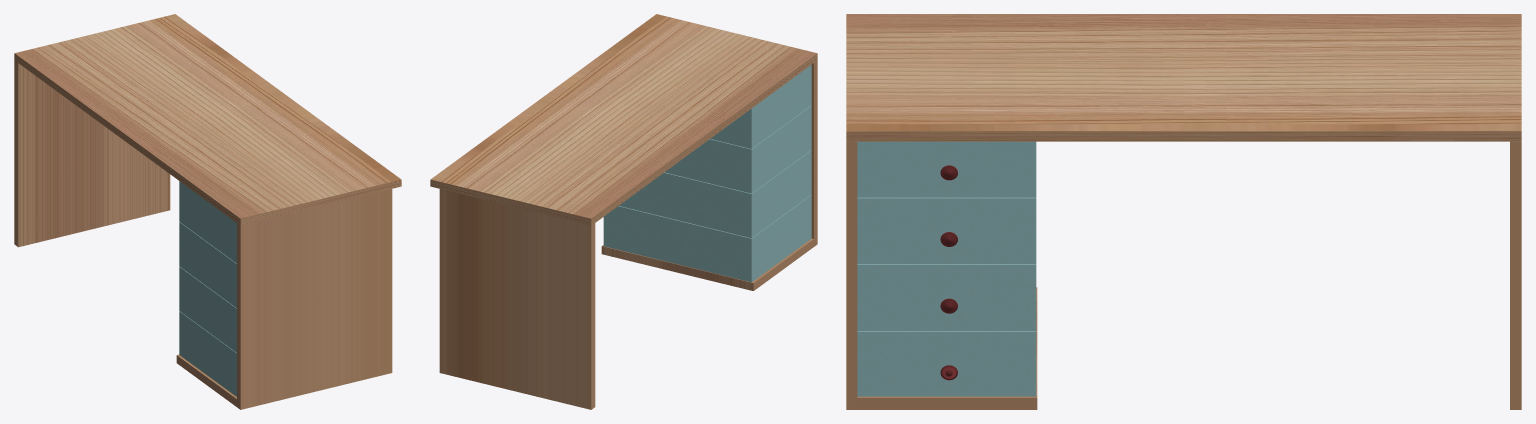
Rendered from desk.glb.
3 views of the same model, side by side, from view 1: azimuth 30°, elevation 25°; view 2: azimuth 150°, elevation 25°; view 3: azimuth 270°, elevation 25° (orthographic). The views are drawn at different scales.
Visible parts, largest first — view 1: Cube.010, Cube.011; view 2: Cube.010, Cube.011; view 3: Cube.010, Cube.011.
Boxes of the visible parts, <box> form: Cube.010: <box>14,14,401,409</box>; Cube.011: <box>179,181,236,396</box>; Cube.010: <box>430,14,817,409</box>; Cube.011: <box>603,65,811,282</box>; Cube.010: <box>846,14,1521,409</box>; Cube.011: <box>857,141,1036,396</box>.
Size of the model in its own units: 0.9334 by 1.06 by 2.27.
3 materials, 3 textured.
